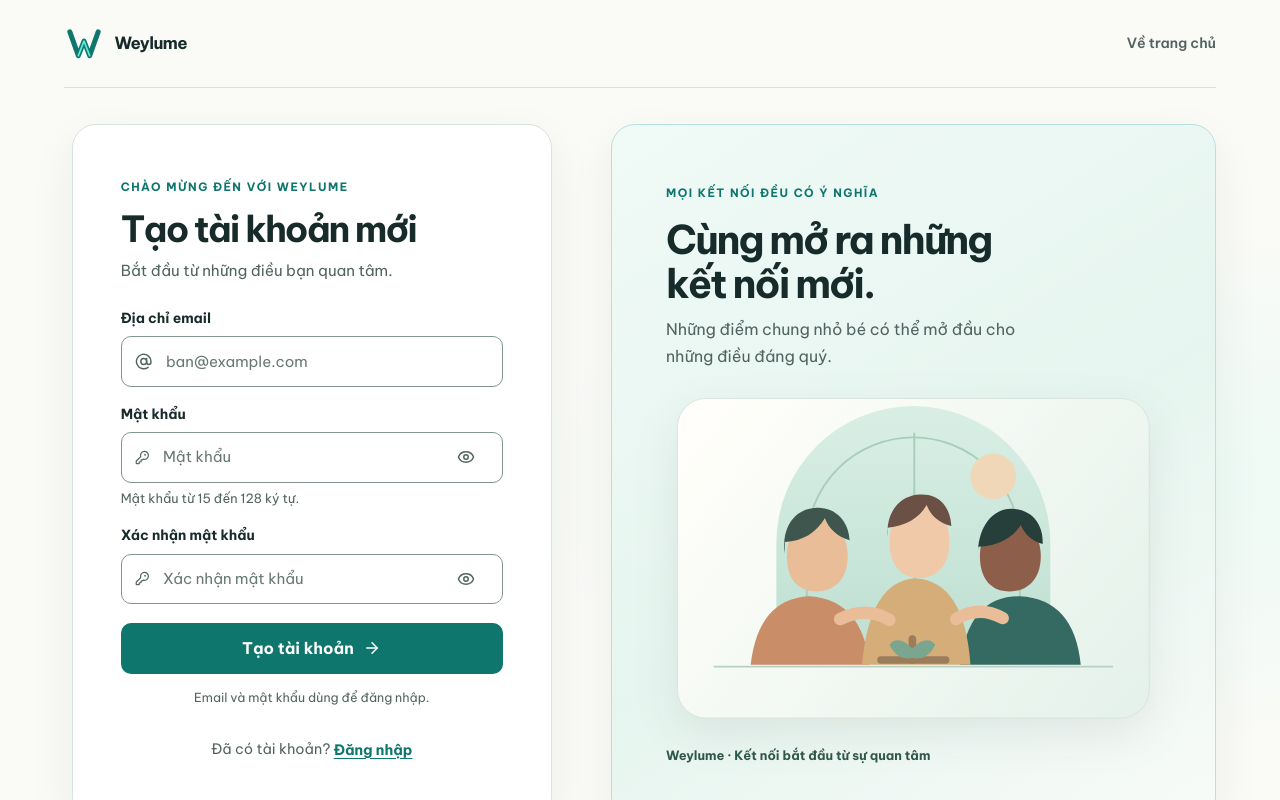
Test: authentication pages › shows safe validation errors and does not retry a CSRF-failed mutation automatically
The image size is (1280, 800).
Expected: the heading "Tạo tài khoản mới" is shown, [121,206,416,252]
Step 1. Type "an@example.test" into the field labelled "Địa chỉ email" → (326, 362), box [164,339,488,384]
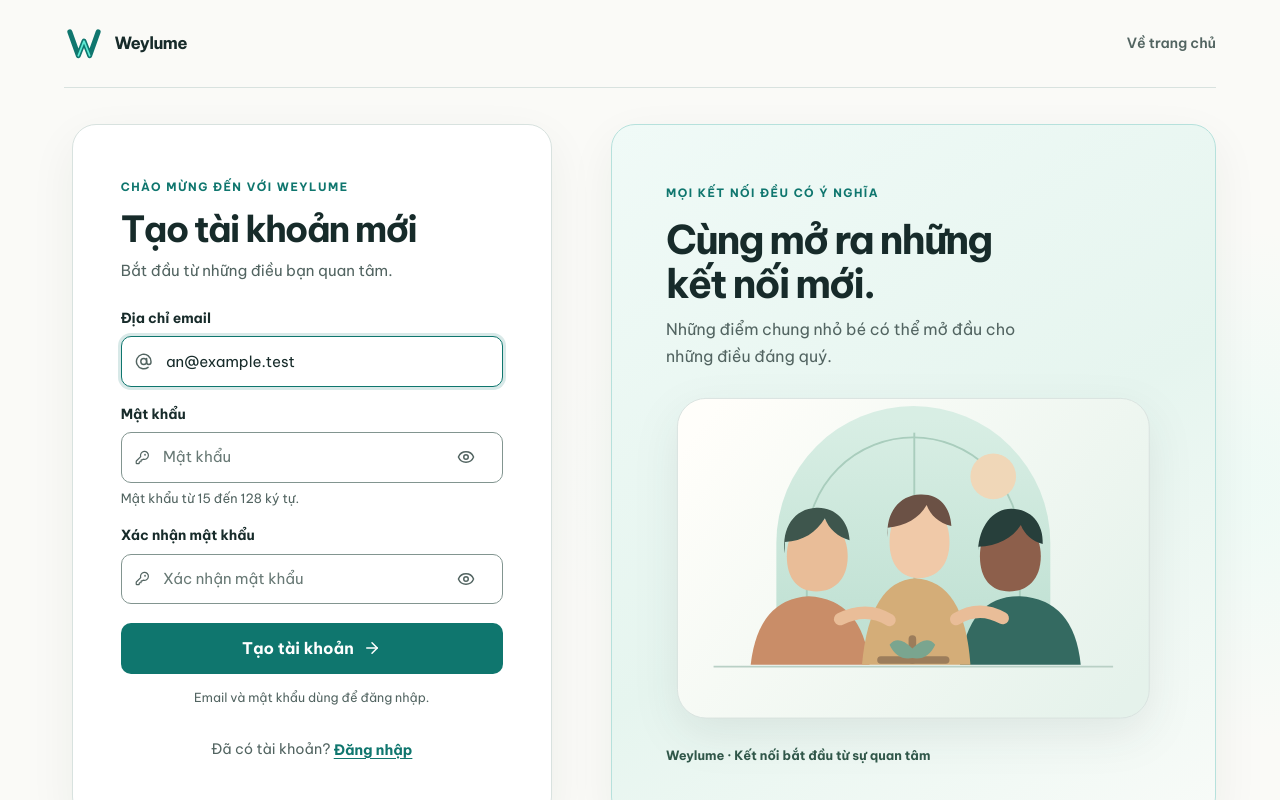
Step 2. Type "a sufficiently long password" into the password field labelled "Mật khẩu" → (297, 458), box [161,435,433,480]
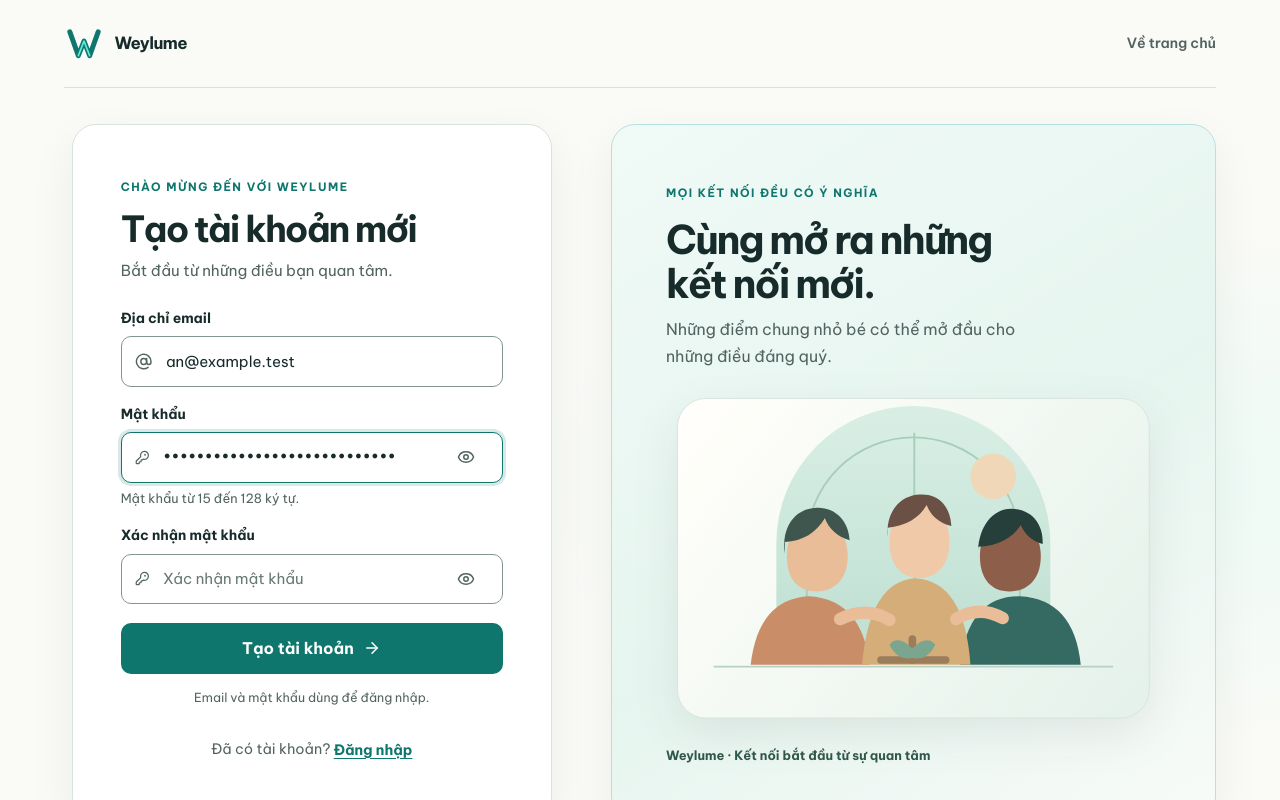
Step 3. Type "a sufficiently long password" into the password field labelled "Xác nhận mật khẩu" → (297, 579), box [161,556,433,601]
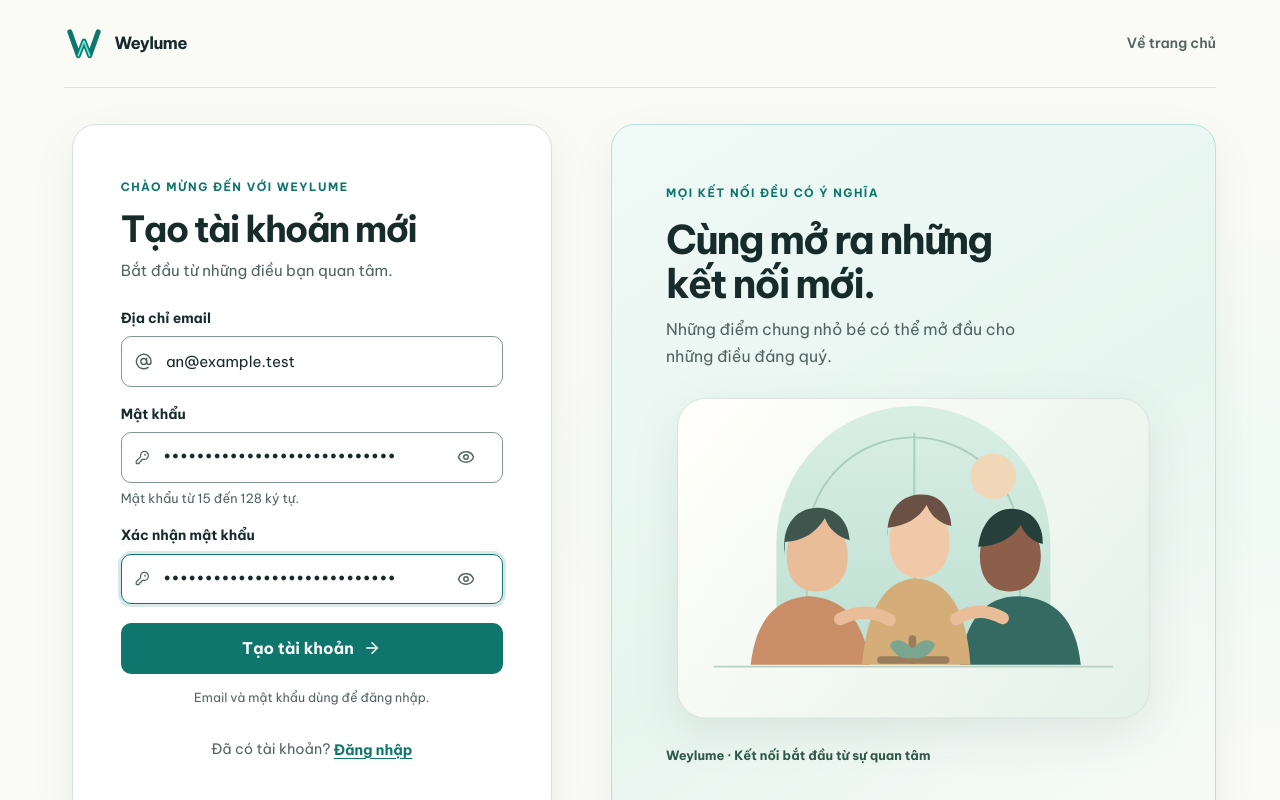
Step 4. Click the button "Tạo tài khoản" → click(312, 648), box [121,623,503,674]
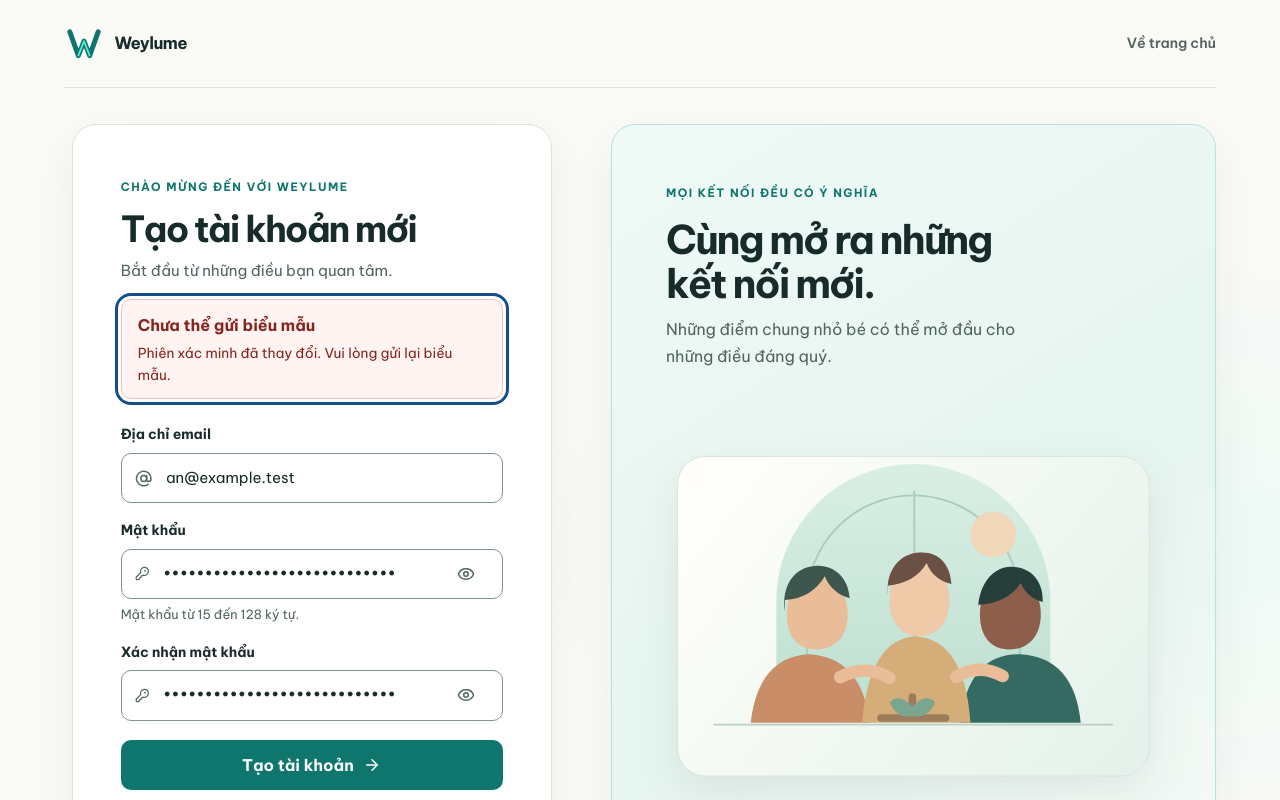
Result: the message shows "Phiên xác minh đã thay đổi. Vui lòng gửi lại biểu mẫu." at [138,344,452,384]
